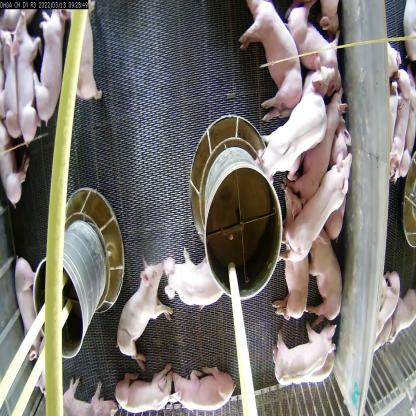Pig: (275, 149, 352, 261), (238, 0, 305, 118), (246, 90, 328, 180), (115, 257, 174, 370), (298, 74, 346, 202), (10, 9, 52, 149), (285, 0, 343, 97), (34, 4, 73, 132), (62, 2, 108, 105), (305, 222, 348, 322), (161, 250, 226, 316), (265, 326, 336, 386), (108, 364, 184, 416), (14, 250, 44, 373), (172, 359, 240, 413), (274, 238, 312, 334), (0, 30, 27, 147), (0, 112, 30, 209), (51, 376, 122, 416), (298, 54, 341, 104), (373, 266, 400, 344), (392, 66, 410, 182), (390, 288, 416, 345)
